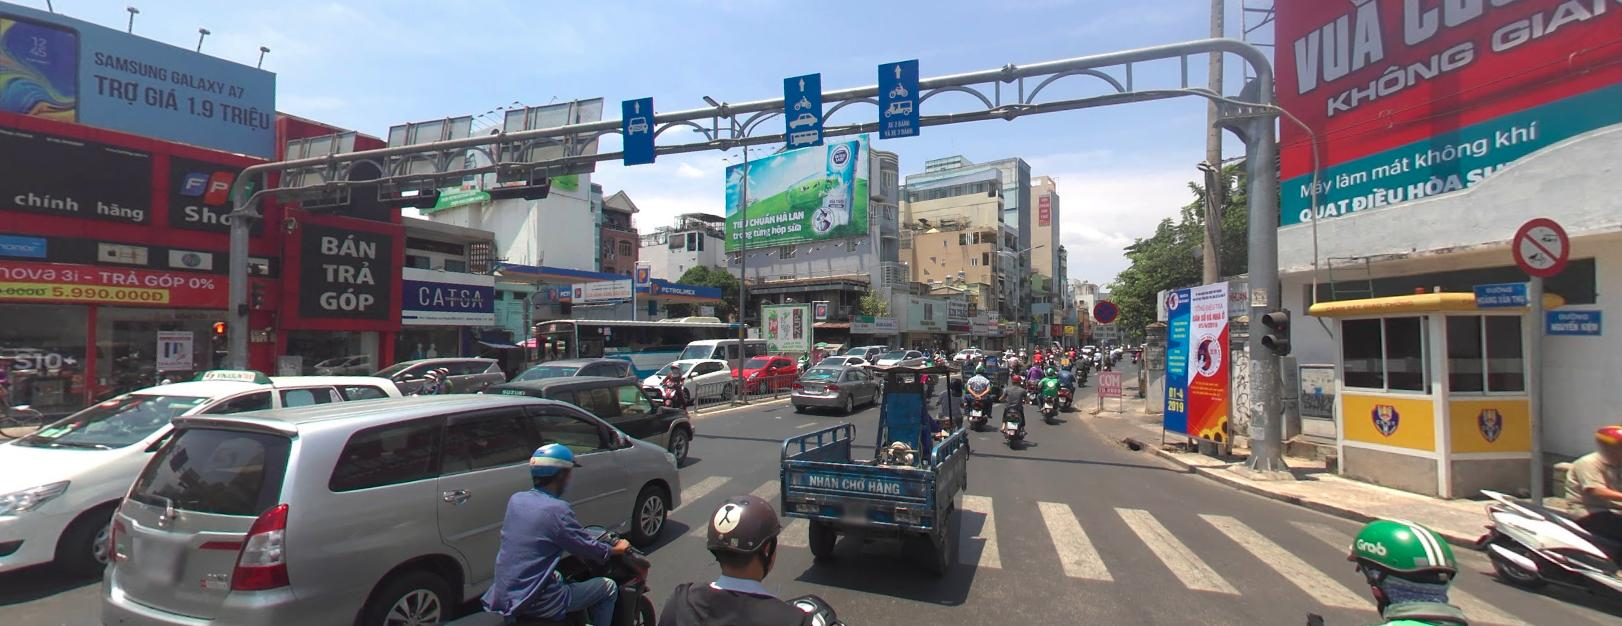Cam con lai: (1508, 214, 1569, 275)
Cam dung va do: (1093, 299, 1118, 322)
